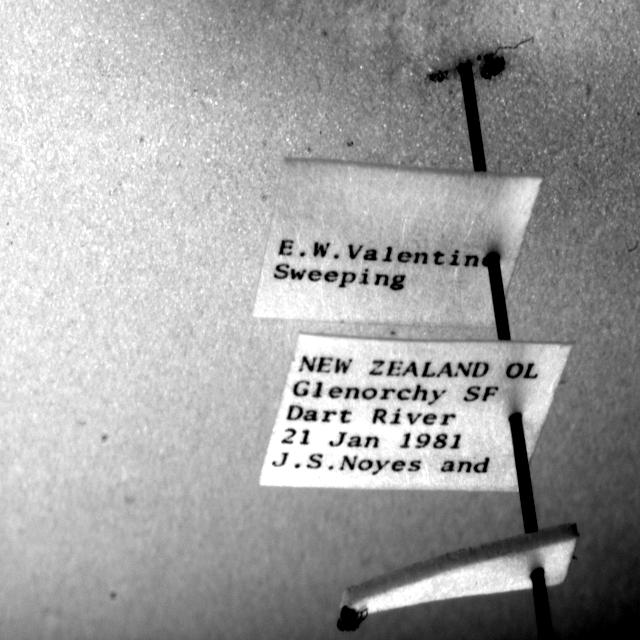typed_label: (260, 334, 570, 491), (254, 159, 541, 326)
